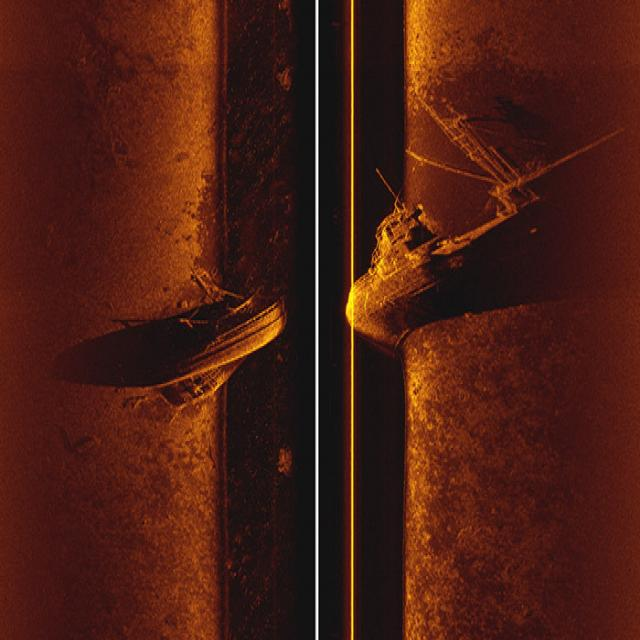ship: (344, 184, 545, 342), (131, 287, 289, 415)
